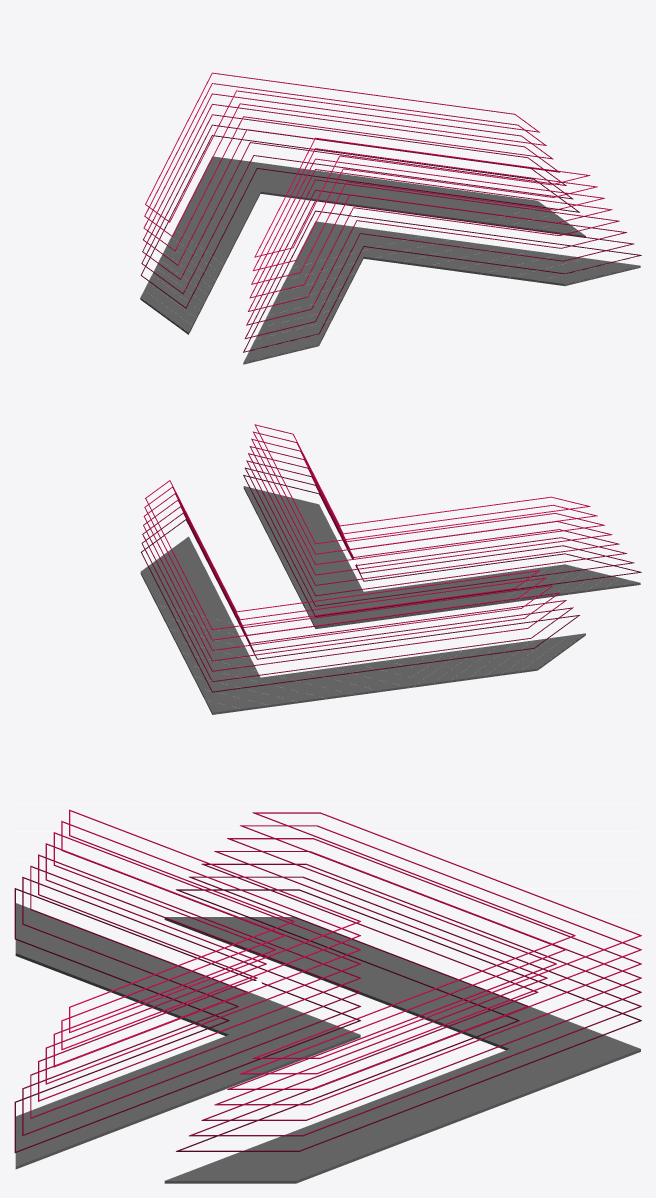
File: gyorin03.glb
The picture shows the model from 3 angles, top to bottom: view 1: azimuth 30°, elevation 25°; view 2: azimuth 150°, elevation 25°; view 3: azimuth 270°, elevation 25°; orthographic projection. The views are drawn at different scales.
Parts seen in each view (by area): view 1: 押し出し, 押し出し.1, スイープ.14, スイープ.12, スイープ.10, スイープ.11, スイープ.9, スイープ.8, スイープ.7, スイープ.6, スイープ.4, スイープ.13 (+5 smaller); view 2: 押し出し, 押し出し.1, スイープ.14, スイープ.13, スイープ.12, スイープ.8, スイープ.10, スイープ.9, スイープ.7, スイープ.6, スイープ.5, スイープ.4 (+5 smaller); view 3: 押し出し, 押し出し.1, スイープ.14, スイープ.12, スイープ.10, スイープ.13, スイープ.9, スイープ.8, スイープ.11, スイープ.7, スイープ.6, スイープ.4 (+8 smaller).
Boxes of the visible parts, x1,y1,x2,y2 form: 押し出し: [140, 156, 585, 334]; 押し出し.1: [243, 221, 640, 364]; スイープ.14: [140, 135, 579, 308]; スイープ.12: [142, 114, 566, 279]; スイープ.10: [143, 93, 553, 251]; スイープ.11: [143, 104, 559, 265]; スイープ.9: [144, 83, 546, 236]; スイープ.8: [145, 72, 539, 222]; スイープ.7: [243, 210, 641, 352]; スイープ.6: [244, 200, 634, 338]; スイープ.4: [248, 179, 619, 311]; スイープ.13: [141, 124, 573, 294]; 押し出し: [140, 536, 585, 714]; 押し出し.1: [243, 486, 640, 628]; スイープ.14: [141, 519, 579, 692]; スイープ.13: [141, 513, 573, 681]; スイープ.12: [142, 506, 566, 671]; スイープ.8: [145, 480, 539, 629]; スイープ.10: [143, 493, 553, 650]; スイープ.9: [144, 486, 546, 640]; スイープ.7: [243, 475, 641, 616]; スイープ.6: [245, 467, 634, 606]; スイープ.5: [246, 460, 626, 596]; スイープ.4: [248, 453, 619, 585]; 押し出し: [164, 917, 640, 1183]; 押し出し.1: [15, 903, 360, 1169]; スイープ.14: [176, 889, 641, 1151]; スイープ.12: [201, 863, 641, 1120]; スイープ.10: [227, 838, 641, 1089]; スイープ.13: [189, 876, 641, 1136]; スイープ.9: [240, 825, 641, 1074]; スイープ.8: [252, 812, 641, 1058]; スイープ.11: [214, 851, 641, 1105]; スイープ.7: [14, 888, 360, 1152]; スイープ.6: [22, 876, 360, 1135]; スイープ.4: [38, 854, 360, 1101].
Bounding box in the file's own units: 0.0201 × 0.00462 × 0.0201.
